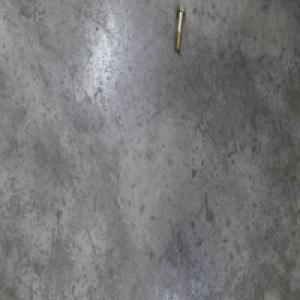Bolt: (173, 8, 187, 56)
